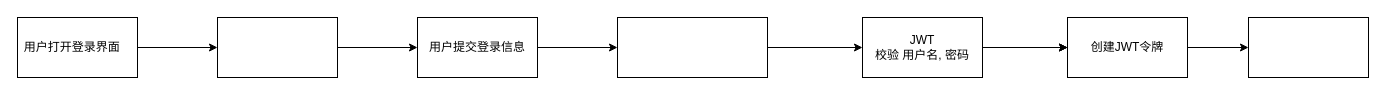
Some shapes in this 1386 by 95 pixel diagram are drawn without their labels. The box of each missing label's shape, as (x1, y1, x2, y2) in pixels:
controller接收到登录数据: (616, 16, 768, 78)
显示登录表单: (216, 16, 338, 78)
